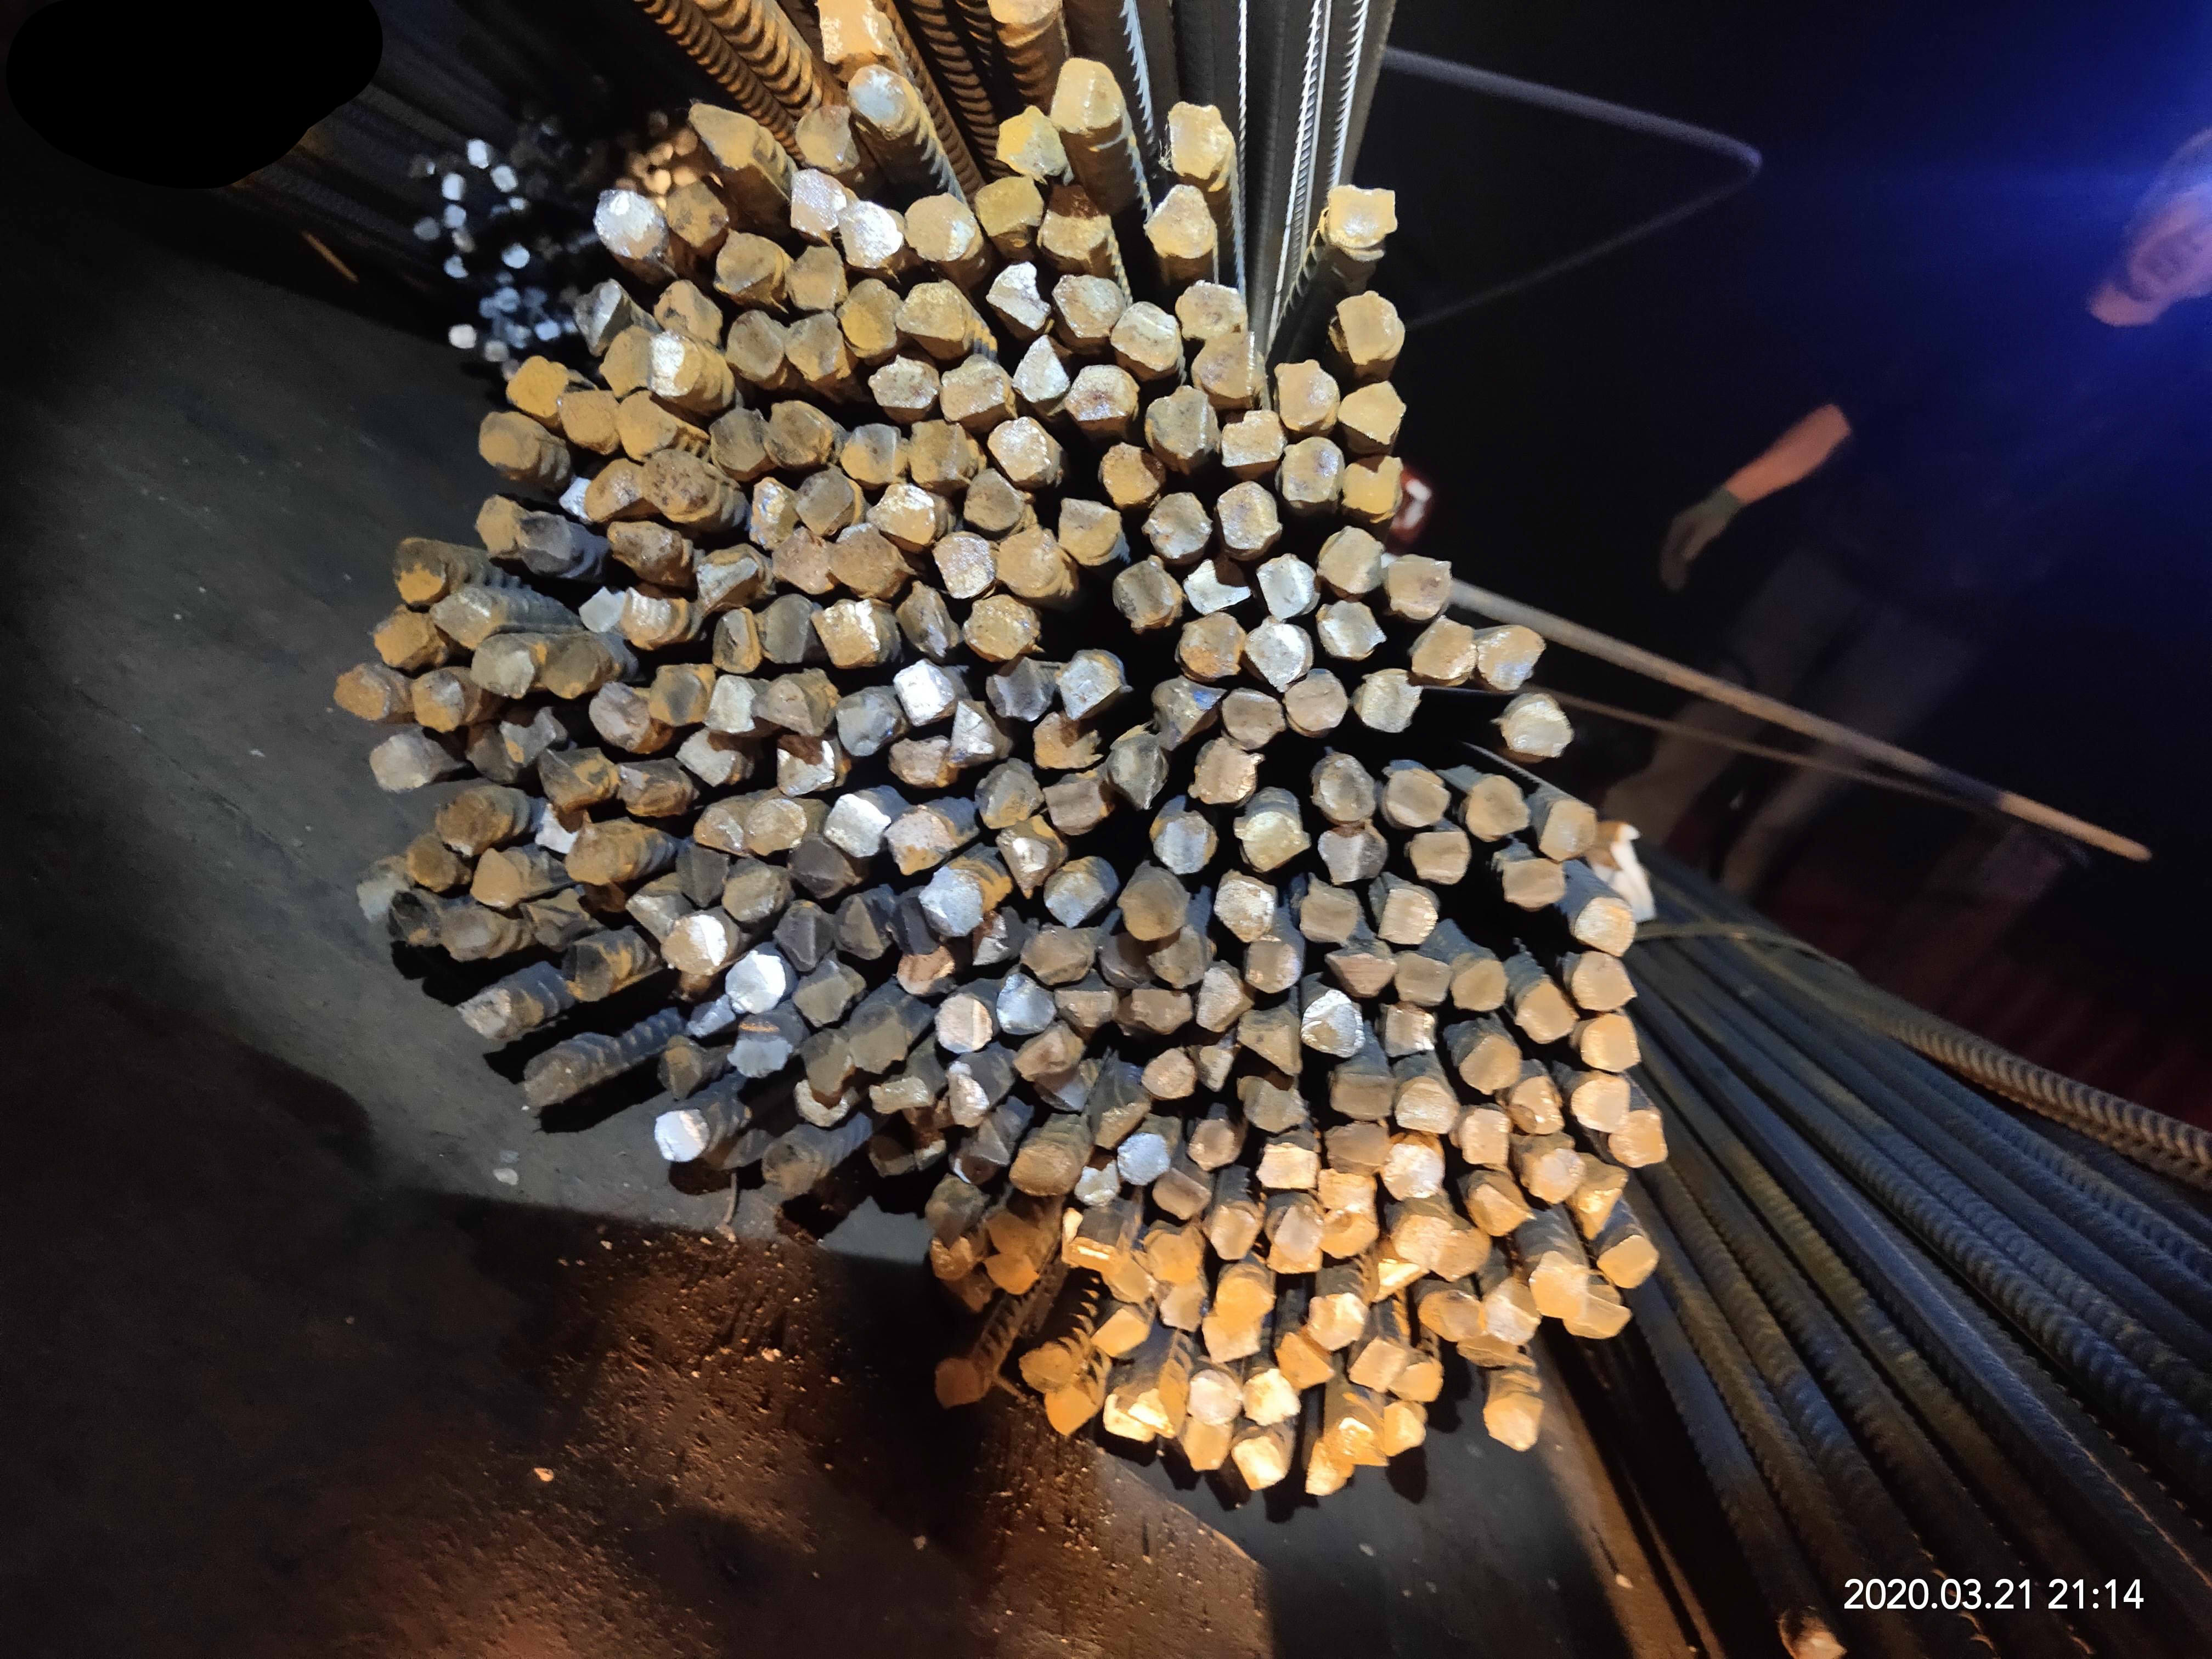rebar: (995, 813, 1070, 901), (449, 981, 548, 1047), (1139, 183, 1221, 259), (1321, 179, 1406, 253), (1272, 356, 1346, 437), (992, 101, 1067, 180), (1036, 181, 1111, 262), (831, 523, 911, 597), (686, 97, 762, 173), (467, 629, 544, 706), (589, 185, 668, 259), (1048, 56, 1124, 134), (1107, 299, 1185, 374), (996, 527, 1075, 602), (1144, 383, 1220, 462), (1165, 100, 1234, 183), (839, 63, 915, 139), (902, 188, 978, 265), (786, 831, 861, 906), (639, 446, 712, 524), (1113, 555, 1187, 632), (1333, 287, 1401, 370), (982, 650, 1055, 725), (966, 592, 1042, 664), (1410, 613, 1480, 691), (883, 805, 956, 879), (1475, 620, 1549, 694), (1186, 735, 1262, 805), (1192, 333, 1272, 399), (895, 582, 962, 663), (915, 864, 985, 940), (1156, 676, 1224, 753), (1245, 616, 1313, 692), (793, 101, 862, 174), (764, 399, 837, 469), (1052, 272, 1125, 341), (520, 889, 605, 950), (712, 229, 781, 303), (721, 307, 787, 383), (1233, 808, 1312, 873), (836, 277, 898, 358), (986, 259, 1053, 333), (986, 415, 1053, 487), (1115, 874, 1187, 944), (1174, 278, 1248, 345), (892, 656, 958, 730), (1300, 989, 1367, 1063), (1233, 1073, 1310, 1136), (1499, 695, 1577, 758), (369, 734, 450, 795), (836, 200, 906, 270), (1143, 491, 1212, 561), (1176, 612, 1245, 682), (1340, 380, 1409, 449), (1510, 977, 1580, 1045), (1455, 1030, 1523, 1099), (1054, 657, 1126, 725), (1252, 553, 1321, 624), (813, 1, 887, 66), (939, 354, 1011, 421), (1147, 926, 1219, 991), (1310, 752, 1375, 825), (587, 679, 652, 754), (1317, 822, 1392, 888), (1018, 927, 1094, 990), (1104, 732, 1165, 810), (662, 177, 730, 247), (783, 312, 850, 382), (821, 791, 890, 861), (721, 947, 789, 1018), (726, 1013, 795, 1080), (1385, 763, 1453, 833), (539, 743, 605, 815), (771, 524, 838, 596), (1215, 480, 1283, 550), (832, 685, 899, 757), (974, 764, 1045, 830), (845, 1004, 912, 1075), (1384, 555, 1457, 623), (720, 852, 785, 926), (1526, 1250, 1589, 1324), (613, 759, 690, 819), (1055, 495, 1124, 563), (754, 674, 823, 742), (432, 792, 500, 859), (1463, 775, 1532, 843), (773, 732, 839, 801), (1282, 668, 1348, 737), (1355, 665, 1422, 735), (654, 281, 724, 347), (785, 166, 848, 238), (865, 483, 937, 548), (657, 912, 729, 978), (1297, 878, 1362, 949), (1319, 523, 1383, 596), (429, 587, 504, 649), (1482, 1274, 1543, 1348), (1028, 714, 1105, 773), (613, 392, 679, 461), (1270, 1331, 1337, 1398), (476, 410, 545, 473), (1222, 686, 1286, 755), (1570, 894, 1639, 958), (895, 283, 967, 345), (1181, 558, 1252, 620), (1263, 1206, 1326, 1277), (1064, 363, 1139, 422), (772, 899, 830, 975), (995, 972, 1060, 1038), (813, 601, 882, 665), (1282, 435, 1346, 504), (788, 244, 852, 314), (931, 532, 995, 601), (1391, 1077, 1461, 1137), (1576, 1155, 1628, 1238), (503, 355, 569, 421), (706, 406, 770, 473), (672, 725, 739, 790), (1383, 1141, 1448, 1205), (973, 174, 1042, 237), (1407, 825, 1475, 887), (1373, 886, 1440, 947), (1303, 1290, 1372, 1352), (841, 424, 912, 484), (1148, 813, 1218, 875), (597, 324, 656, 398), (798, 1028, 855, 1102), (467, 845, 531, 910), (790, 968, 856, 1033), (556, 387, 621, 450), (1102, 438, 1163, 505), (1341, 451, 1403, 517), (1241, 934, 1306, 997), (1042, 778, 1111, 837), (1323, 1119, 1393, 1178), (831, 893, 889, 966), (864, 358, 942, 409), (646, 325, 701, 399), (583, 458, 647, 521), (961, 469, 1024, 533), (557, 938, 619, 1003), (1215, 879, 1278, 944), (1572, 950, 1636, 1013), (514, 511, 575, 576), (743, 797, 809, 857), (934, 991, 995, 1058), (1319, 600, 1387, 661), (673, 840, 731, 907), (1538, 797, 1596, 864), (1500, 853, 1568, 913), (646, 665, 709, 729), (1577, 1013, 1641, 1075), (517, 1055, 582, 1115), (1193, 967, 1254, 1032), (1572, 1071, 1632, 1137), (391, 536, 449, 603), (1009, 336, 1070, 403), (1220, 409, 1285, 469), (885, 891, 944, 958), (1450, 953, 1508, 1019), (1609, 1105, 1669, 1170), (1417, 1285, 1483, 1346), (435, 906, 504, 963), (1348, 1336, 1417, 1395), (886, 735, 956, 792), (371, 610, 435, 670), (747, 472, 797, 551), (1327, 948, 1401, 1000), (1242, 1368, 1305, 1429), (794, 477, 853, 542), (353, 862, 413, 927), (1481, 1393, 1545, 1453), (618, 586, 676, 651), (609, 518, 676, 577), (695, 553, 761, 610), (1041, 871, 1107, 929), (1468, 1182, 1534, 1240), (413, 668, 469, 736), (1007, 1141, 1076, 1195), (563, 826, 624, 887), (330, 664, 394, 723), (543, 642, 602, 703), (756, 1137, 819, 1198), (1184, 1365, 1244, 1427), (1329, 1417, 1392, 1476), (575, 279, 626, 352), (1014, 1340, 1079, 1396), (1598, 1233, 1661, 1290), (1148, 1165, 1211, 1222), (1458, 1107, 1514, 1170), (1392, 1212, 1455, 1268), (472, 492, 526, 558), (704, 672, 758, 739), (1127, 980, 1193, 1035), (1329, 1069, 1397, 1121), (943, 1062, 992, 1130), (1562, 1291, 1632, 1341), (499, 709, 558, 768), (1236, 1022, 1296, 1080), (405, 832, 462, 893), (1013, 1029, 1074, 1086), (1042, 1378, 1098, 1440), (385, 890, 441, 953), (1233, 1430, 1288, 1494), (764, 595, 810, 669), (1395, 950, 1453, 1008), (1380, 1002, 1439, 1060), (1144, 1229, 1204, 1286), (1314, 1167, 1384, 1217), (1090, 1305, 1150, 1361), (908, 421, 962, 484), (654, 1041, 707, 1104), (622, 890, 685, 945), (894, 947, 957, 1000), (1588, 817, 1641, 882), (1513, 1074, 1566, 1137), (1210, 1274, 1274, 1326), (1254, 1141, 1321, 1192), (712, 609, 761, 675), (1528, 1148, 1585, 1206), (791, 1075, 850, 1131), (1139, 1045, 1199, 1102), (1316, 1211, 1381, 1262), (1303, 1436, 1352, 1502), (693, 805, 750, 861), (653, 1109, 709, 1167), (1186, 1114, 1241, 1172), (1092, 1098, 1154, 1150), (1203, 1315, 1265, 1366), (1440, 1227, 1494, 1284), (1102, 1391, 1155, 1447), (929, 1356, 986, 1409), (978, 1251, 1043, 1296), (1099, 932, 1149, 991), (1054, 984, 1115, 1031), (866, 1074, 934, 1118), (1454, 1328, 1518, 1373), (1118, 1131, 1172, 1186), (1208, 1204, 1262, 1260), (468, 731, 518, 787), (1369, 1255, 1431, 1301), (1375, 1403, 1427, 1457), (1155, 1281, 1211, 1331), (1126, 1387, 1181, 1438), (947, 702, 997, 760), (1607, 862, 1657, 921), (1178, 1423, 1231, 1475), (535, 800, 585, 855), (984, 1209, 1039, 1261), (924, 1193, 972, 1252), (1103, 1255, 1156, 1303), (1064, 1236, 1124, 1278), (1033, 1068, 1091, 1113), (578, 585, 627, 635), (680, 994, 735, 1038), (968, 910, 1011, 967), (865, 1131, 915, 1181), (1395, 1357, 1444, 1406), (927, 1234, 975, 1281), (1074, 1160, 1121, 1208), (967, 1118, 1011, 1169), (950, 1145, 997, 1188), (952, 1266, 994, 1310), (1196, 1043, 1234, 1092), (558, 476, 598, 520), (915, 1128, 953, 1170), (401, 150, 435, 184), (448, 320, 479, 352), (439, 169, 466, 204), (503, 318, 532, 350), (644, 168, 675, 196), (465, 136, 488, 173), (501, 241, 532, 270), (492, 163, 520, 193), (673, 128, 699, 157), (438, 204, 467, 230), (494, 285, 521, 313), (534, 315, 560, 343), (523, 286, 549, 314), (648, 142, 674, 166), (628, 154, 653, 177), (483, 339, 510, 363), (556, 285, 581, 306), (442, 256, 467, 279), (675, 162, 699, 186), (412, 217, 439, 238), (449, 229, 476, 252), (1063, 1208, 1082, 1236), (478, 295, 500, 318), (508, 193, 526, 213), (492, 268, 511, 285)
